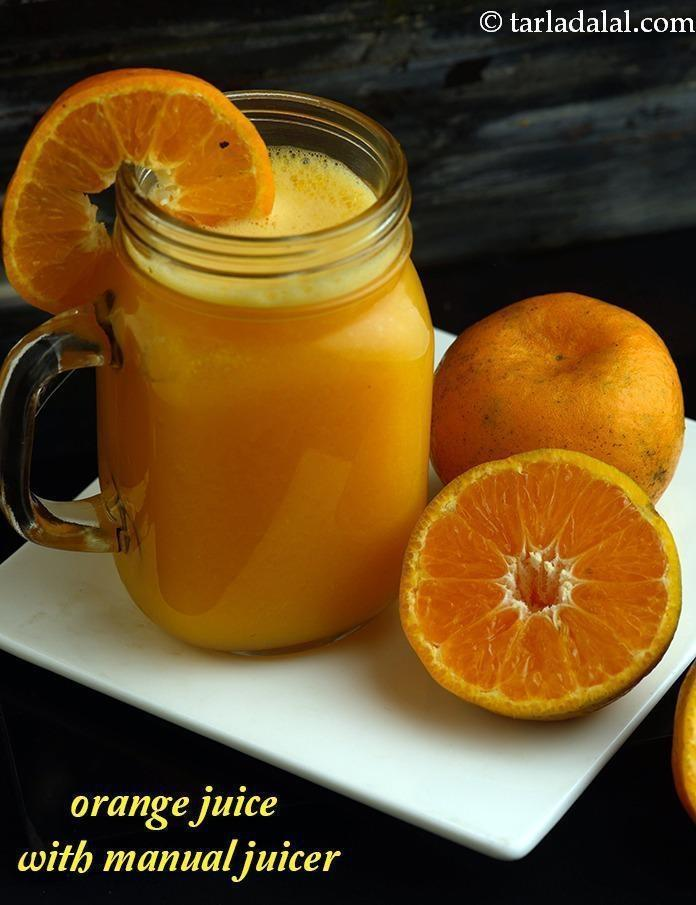glass-mug: (3, 87, 436, 657)
